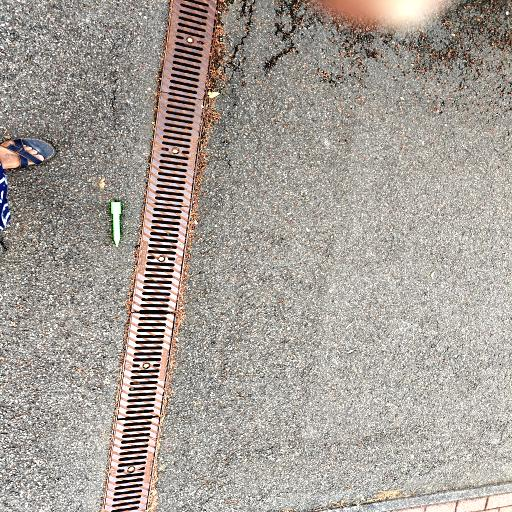Probe-Detection: (111, 202, 121, 246)
